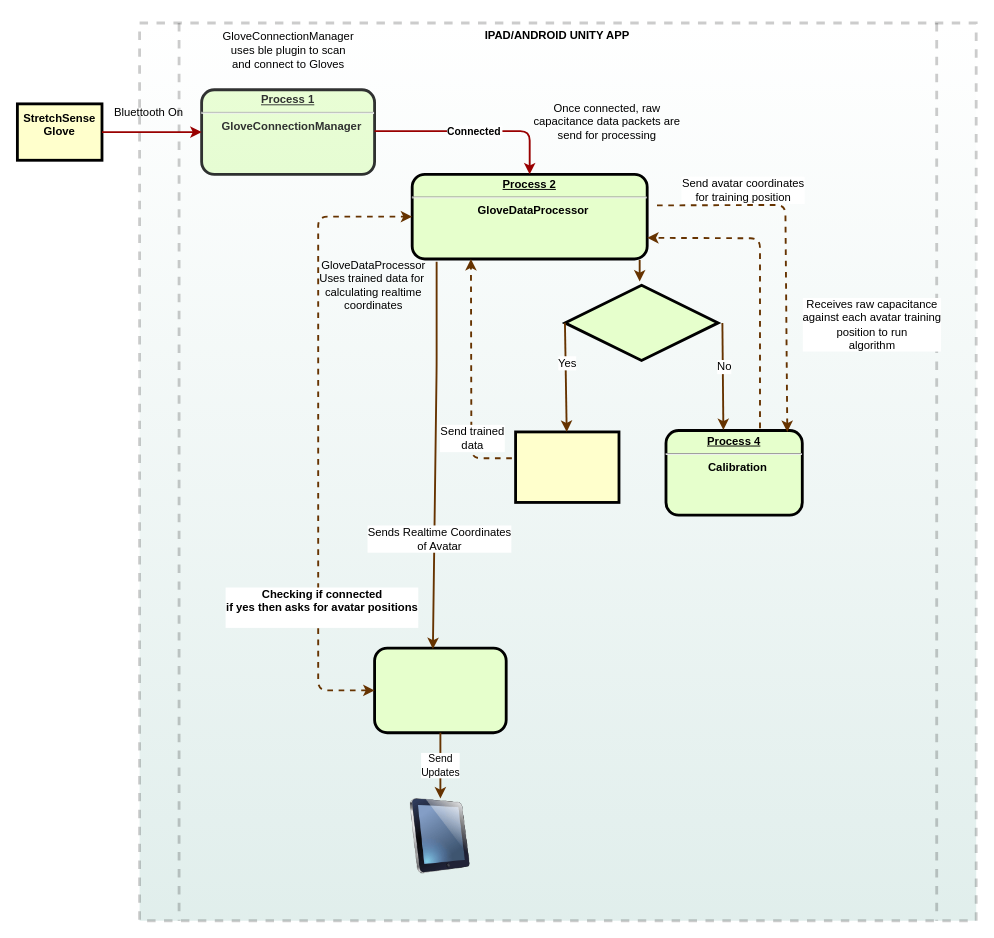
Image size: 994x938. Some labels were removed from this diagram. The centre of each missing label's shape, as x and y in pixels:
Is Glove Calibrated: pixel 641 322
Process 3 GloveController: pixel 440 690
Solver (Algorithm): pixel 567 466
